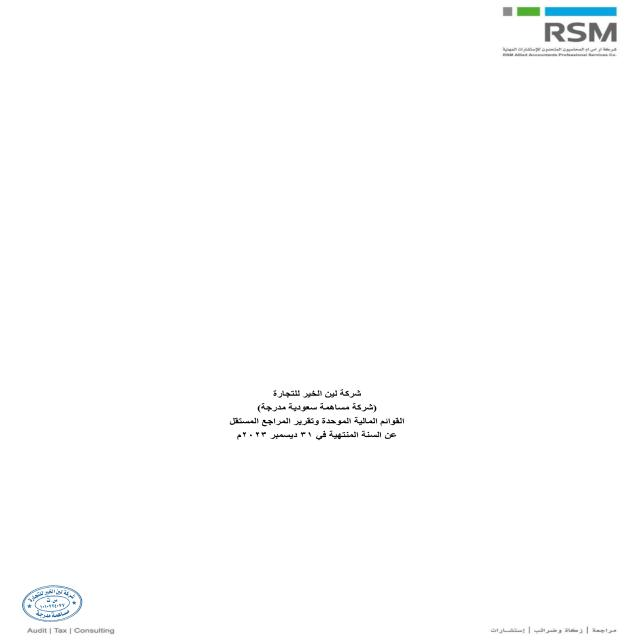other: (170, 304, 453, 514)
